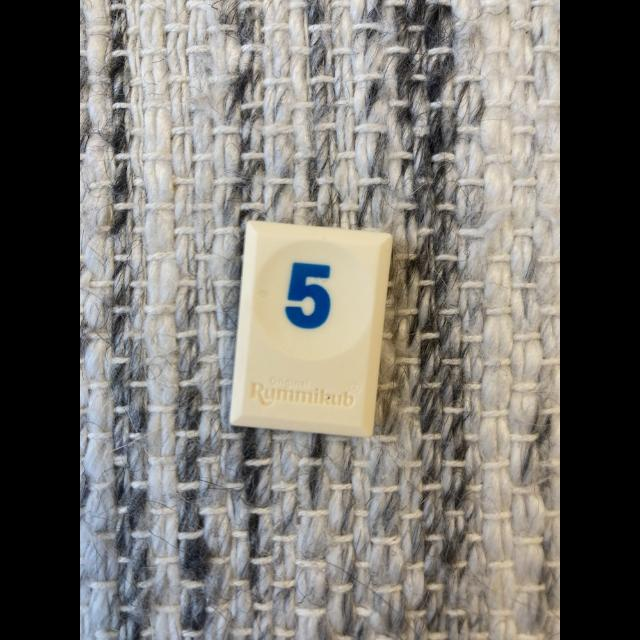blue_5: (230, 221, 391, 436)
